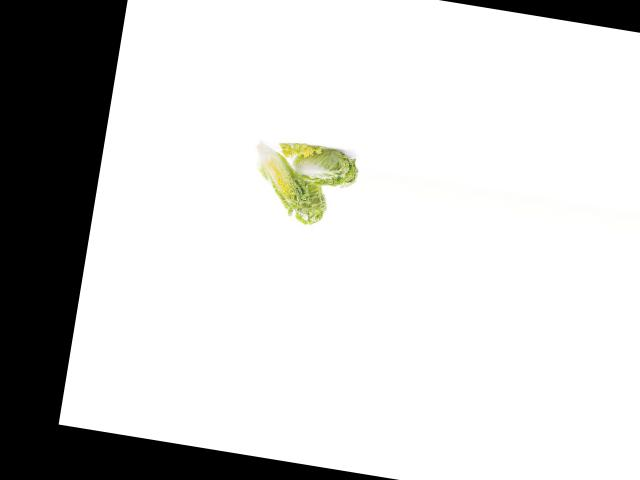lettuce: (281, 138, 359, 192)
